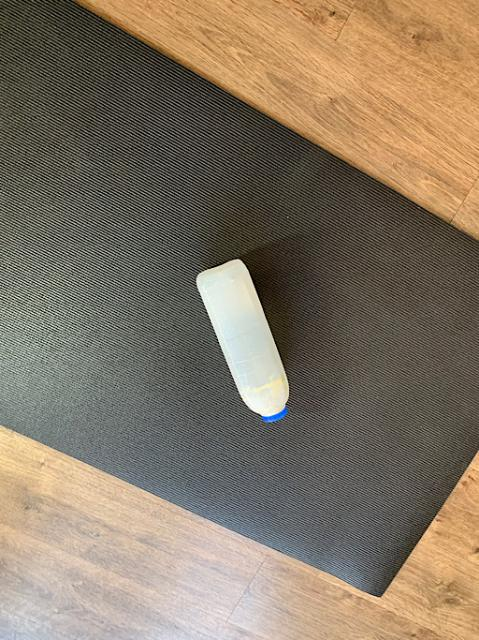plastic: (196, 259, 288, 421)
